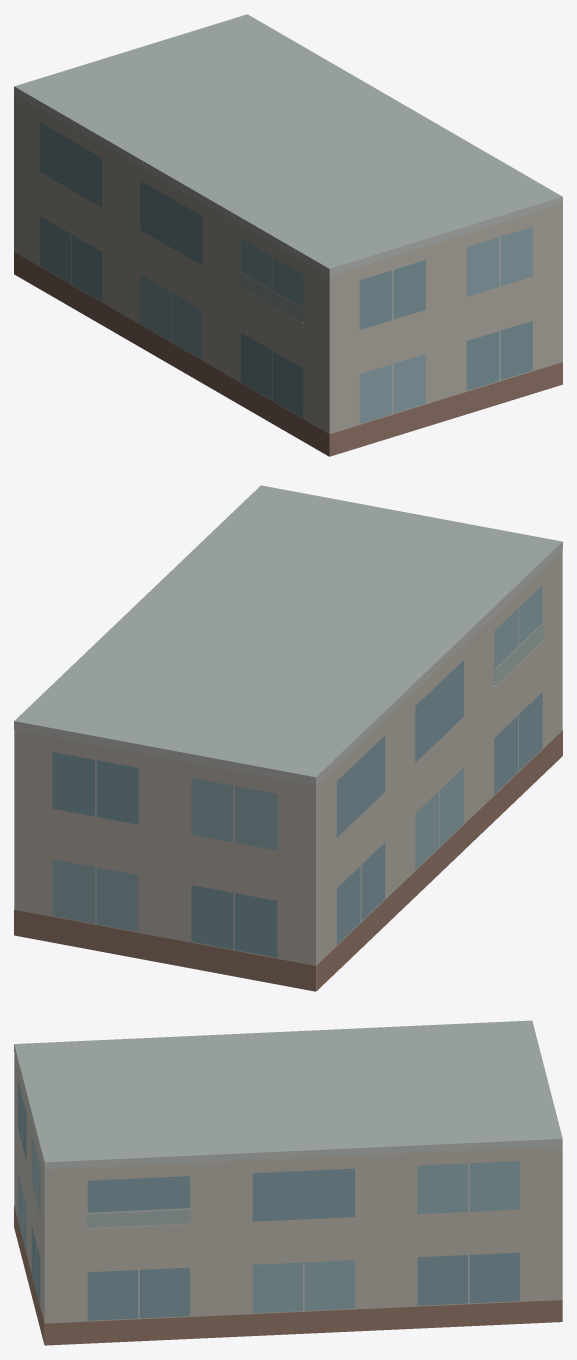
Rendered from survey-upis-32916371.glb.
3 renders of one model, top to bottom at view 1: azimuth 30°, elevation 25°; view 2: azimuth 150°, elevation 25°; view 3: azimuth 270°, elevation 25°, orthographic. The views are drawn at different scales.
Parts seen in each view (by area): view 1: survey-upis-32916371.tmp; view 2: survey-upis-32916371.tmp; view 3: survey-upis-32916371.tmp.
Part boxes in pixels (left/top/right/bottom): survey-upis-32916371.tmp: left=14, top=14, right=562, bottom=456; survey-upis-32916371.tmp: left=14, top=485, right=562, bottom=991; survey-upis-32916371.tmp: left=14, top=1020, right=562, bottom=1345.
Bounding box in the file's own units: 10.16 × 6.1 × 16.58.
